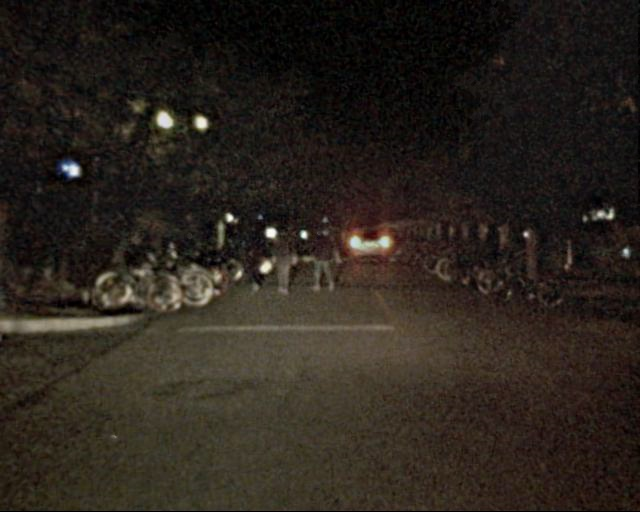person: (238, 216, 267, 294), (305, 224, 335, 296), (271, 221, 298, 296), (327, 225, 346, 271)
